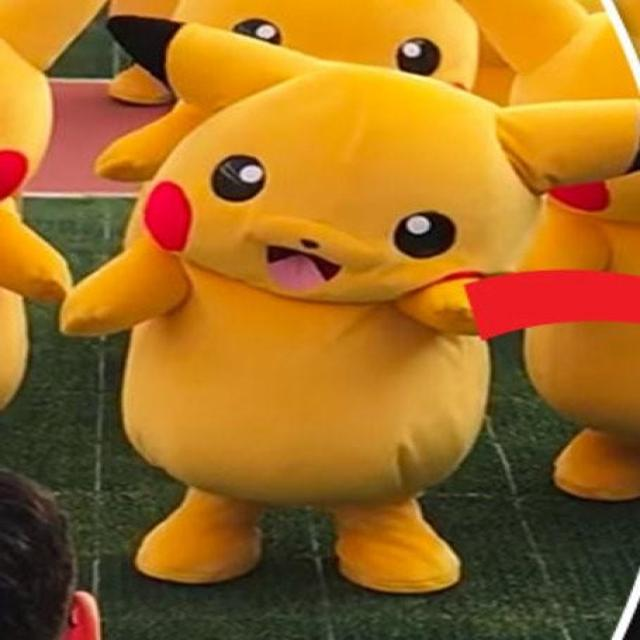pikachu: (60, 17, 640, 590)
